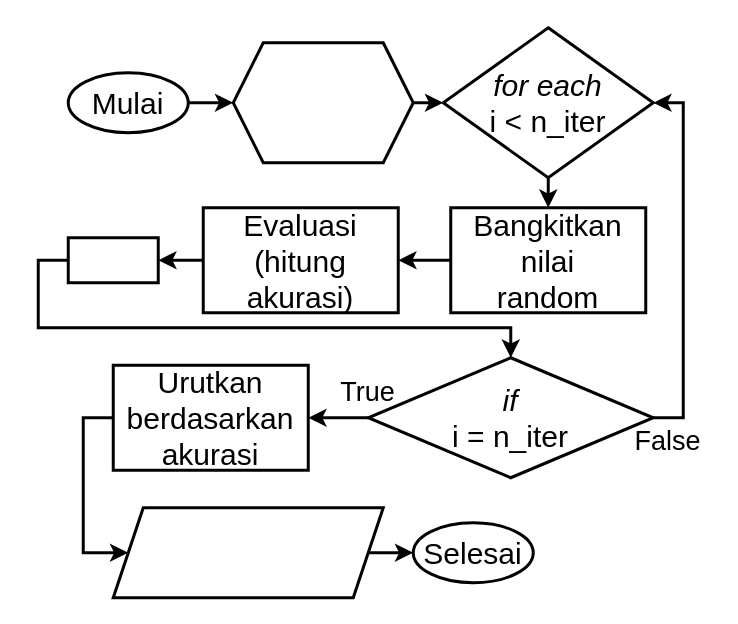
Some shapes in this 738 by 624 pixel diagram are drawn without their labels. The shapes that lost their labels are listed below. From the top down, each one's centre as x and y in pixels, then its label:
the point at 322,102: Parameter Tune
the point at 112,260: i+=1
the point at 247,552: parameter_tune
